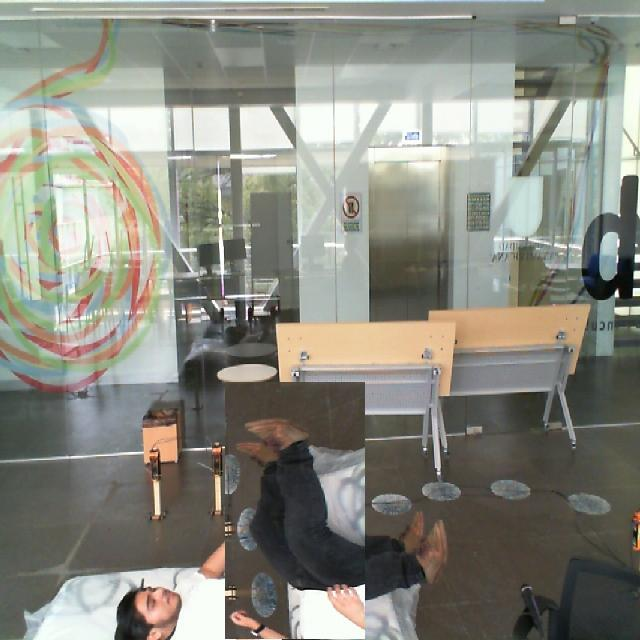Fall: (98, 509, 432, 640)
